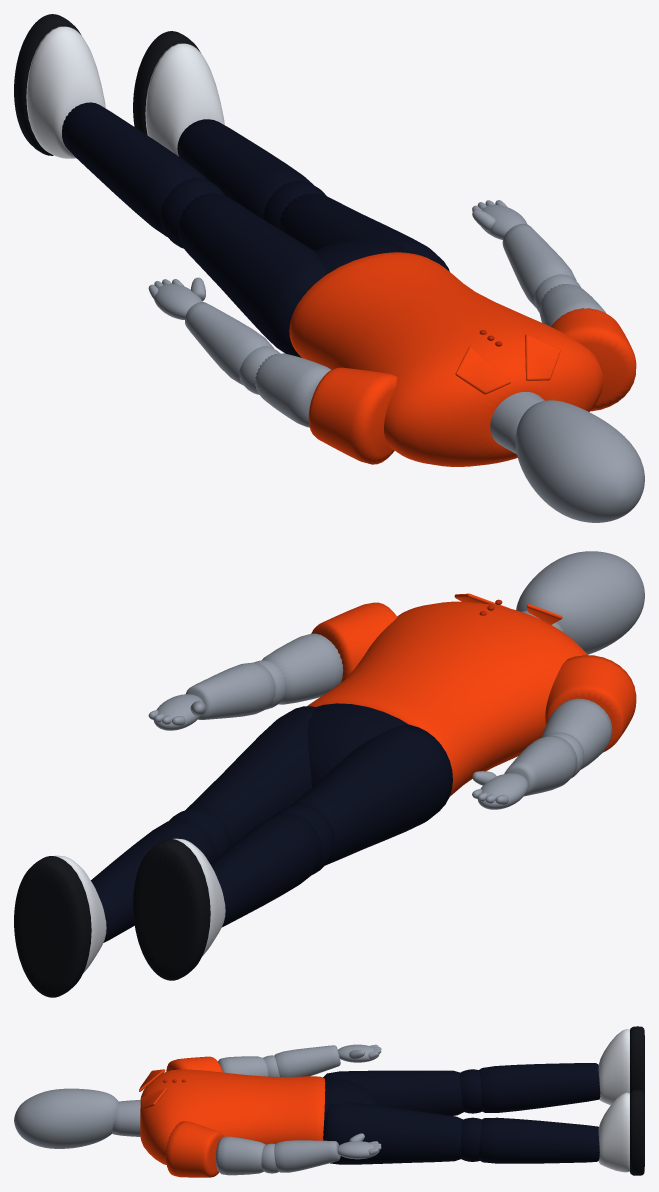
The model's file is maniqui.obj.
The picture shows the model from 3 angles, top to bottom: view 1: azimuth 30°, elevation 25°; view 2: azimuth 150°, elevation 25°; view 3: azimuth 270°, elevation 25°; orthographic projection. The views are drawn at different scales.
Parts seen in each view (by area): view 1: Polo_torso, Pantalon_muslo_der, Cabeza_sin_rostro, Pantalon_pierna_der, Tenis_der, Manga_der, Pantalon_pierna_izq, Tenis_izq, Pantalon_muslo_izq, Manga_izq, Brazo_der, Antebrazo_der (+13 smaller); view 2: Polo_torso, Pantalon_muslo_der, Suela_der, Suela_izq, Cabeza_sin_rostro, Pantalon_muslo_izq, Pantalon_pierna_der, Manga_der, Pantalon_pierna_izq, Cadera_pantalon, Brazo_izq, Antebrazo_izq (+9 smaller); view 3: Polo_torso, Pantalon_muslo_izq, Pantalon_pierna_der, Cabeza_sin_rostro, Pantalon_pierna_izq, Pantalon_muslo_der, Manga_izq, Tenis_izq, Tenis_der, Antebrazo_izq, Brazo_izq, Antebrazo_der (+13 smaller).
Part boxes in pixels (bbox=[...]): Polo_torso: bbox=[289, 252, 603, 466]; Pantalon_muslo_der: bbox=[178, 193, 326, 357]; Cabeza_sin_rostro: bbox=[515, 400, 644, 522]; Pantalon_pierna_der: bbox=[62, 102, 208, 236]; Tenis_der: bbox=[26, 26, 105, 158]; Manga_der: bbox=[308, 367, 397, 464]; Pantalon_pierna_izq: bbox=[177, 119, 313, 218]; Tenis_izq: bbox=[145, 43, 224, 156]; Pantalon_muslo_izq: bbox=[279, 193, 449, 271]; Manga_izq: bbox=[551, 308, 636, 411]; Brazo_der: bbox=[255, 353, 330, 427]; Antebrazo_der: bbox=[185, 302, 273, 384]; Polo_torso: bbox=[307, 601, 587, 796]; Pantalon_muslo_der: bbox=[291, 724, 452, 865]; Suela_der: bbox=[133, 839, 210, 980]; Suela_izq: bbox=[14, 856, 91, 997]; Cabeza_sin_rostro: bbox=[516, 551, 644, 654]; Pantalon_muslo_izq: bbox=[185, 706, 317, 845]; Pantalon_pierna_der: bbox=[210, 813, 321, 927]; Manga_der: bbox=[545, 655, 636, 752]; Pantalon_pierna_izq: bbox=[91, 819, 216, 942]; Cadera_pantalon: bbox=[307, 703, 408, 786]; Brazo_izq: bbox=[261, 633, 343, 704]; Antebrazo_izq: bbox=[186, 662, 275, 719]; Polo_torso: bbox=[140, 1069, 325, 1164]; Pantalon_muslo_izq: bbox=[323, 1103, 462, 1164]; Pantalon_pierna_der: bbox=[479, 1063, 600, 1112]; Cabeza_sin_rostro: bbox=[14, 1088, 118, 1148]; Pantalon_pierna_izq: bbox=[479, 1117, 599, 1163]; Pantalon_muslo_der: bbox=[323, 1070, 464, 1115]; Manga_izq: bbox=[165, 1121, 223, 1177]; Tenis_izq: bbox=[598, 1092, 629, 1172]; Tenis_der: bbox=[598, 1029, 629, 1105]; Antebrazo_izq: bbox=[274, 1140, 340, 1172]; Brazo_izq: bbox=[215, 1136, 265, 1175]; Antebrazo_der: bbox=[274, 1045, 340, 1076].
Size of the model in its own units: 0.696 by 0.3368 by 1.73.
